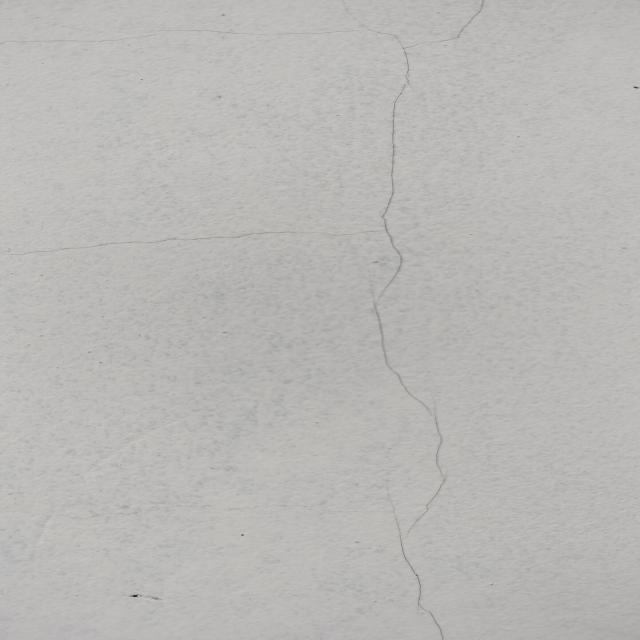Crack: (345, 2, 486, 640)
